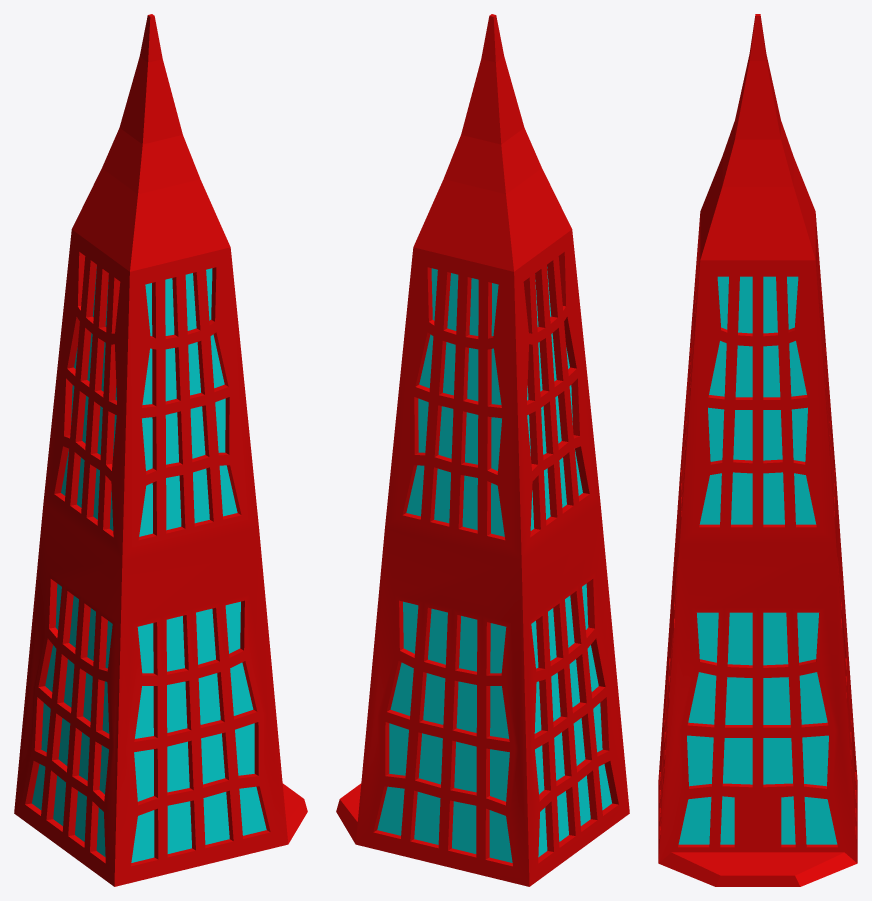
The model's file is building.fbx.
3 renders of one model, left to right at view 1: azimuth 30°, elevation 25°; view 2: azimuth 150°, elevation 25°; view 3: azimuth 270°, elevation 25°, orthographic.
Parts seen in each view (by area): view 1: pCube26; view 2: pCube26; view 3: pCube26.
Part boxes in pixels (box(x1,y1,x2,y2)): pCube26: box(14, 14, 307, 886); pCube26: box(336, 14, 629, 886); pCube26: box(658, 14, 857, 886).
Size of the model in its own units: 13.17 by 46.1 by 10.31.
